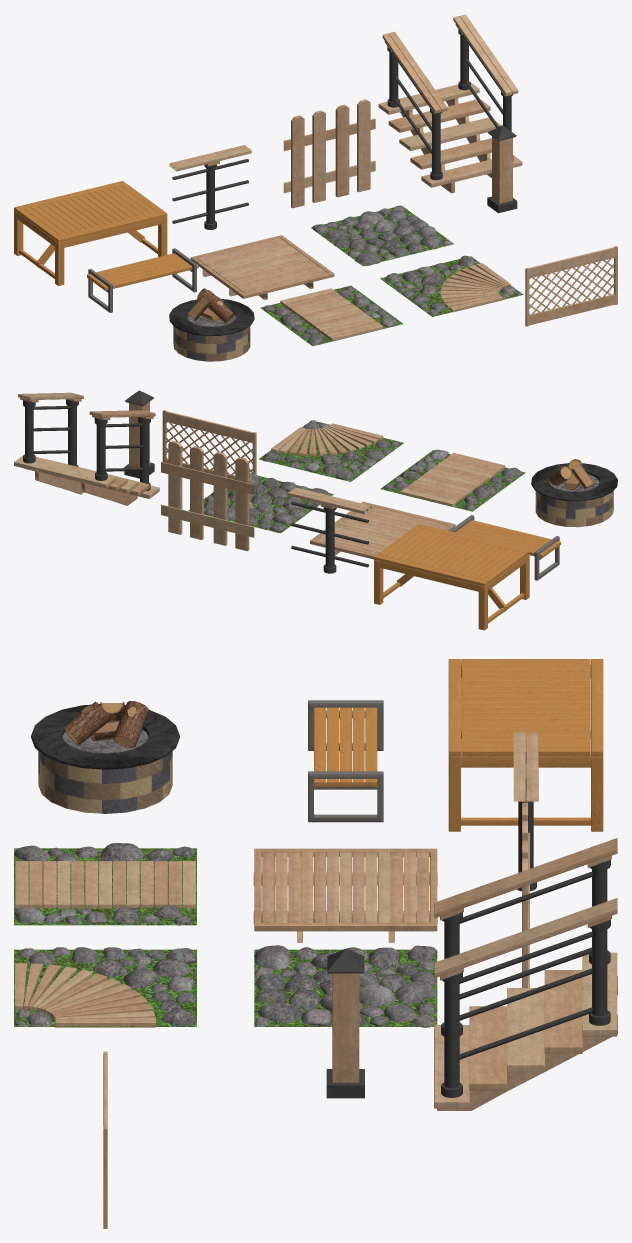
Rendered from Yard Assets.fbx.
3 renders of one model, top to bottom at view 1: azimuth 30°, elevation 25°; view 2: azimuth 150°, elevation 25°; view 3: azimuth 270°, elevation 25°, orthographic. The views are drawn at different scales.
Parts seen in each view (by area): view 1: Stairs, Table, Fence, Deck_floor, Straight_walkway, Curved_walkway, Grass, Firepit, Deck_lattice_skirting, Bench, Deck_railing, Post; view 2: Table, Stairs, Fence, Straight_walkway, Curved_walkway, Firepit, Deck_floor, Grass, Deck_lattice_skirting, Deck_railing, Bench, Post; view 3: Stairs, Table, Deck_floor, Straight_walkway, Curved_walkway, Firepit, Grass, Bench, Post, Deck_railing, Fence, Deck_lattice_skirting.
Boxes of the visible parts, x1,y1,x2,y2 form: Stairs: (378,14,522,193); Table: (14,181,167,285); Fence: (283,99,375,208); Deck_floor: (190,235,334,300); Straight_walkway: (260,285,402,346); Curved_walkway: (380,255,523,316); Grass: (310,205,453,266); Firepit: (169,288,254,361); Deck_lattice_skirting: (525,246,617,326); Bench: (87,248,198,312); Deck_railing: (169,145,251,229); Post: (487,125,517,213); Table: (374,524,529,630); Stairs: (14,392,159,505); Fence: (161,440,254,551); Straight_walkway: (380,449,525,511); Curved_walkway: (258,420,403,481); Firepit: (531,459,617,527); Deck_floor: (310,501,455,559); Grass: (188,473,333,533); Deck_lattice_skirting: (162,410,256,478); Deck_railing: (288,487,371,573); Bench: (449,515,560,580); Post: (124,390,154,478); Stairs: (434,838,617,1110); Table: (448,659,603,831); Deck_floor: (253,848,437,942); Straight_walkway: (14,843,196,925); Curved_walkway: (14,947,196,1027); Firepit: (31,701,179,813); Grass: (254,945,437,1027); Bench: (308,700,383,822); Post: (326,949,364,1098); Deck_railing: (513,732,538,891); Fence: (522,802,529,987); Deck_lattice_skirting: (103,1051,107,1228).
Bounding box in the file's own units: 7.67 × 2.91 × 5.03.
